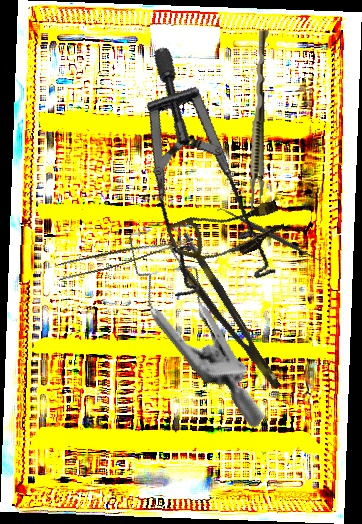Cannula: (166, 186, 289, 278)
Spatula Surgical: (215, 201, 327, 268)
Speculum: (86, 42, 332, 323), (77, 197, 331, 431)
Tissue Forceps: (165, 231, 284, 399), (53, 222, 195, 285), (248, 29, 270, 214)
